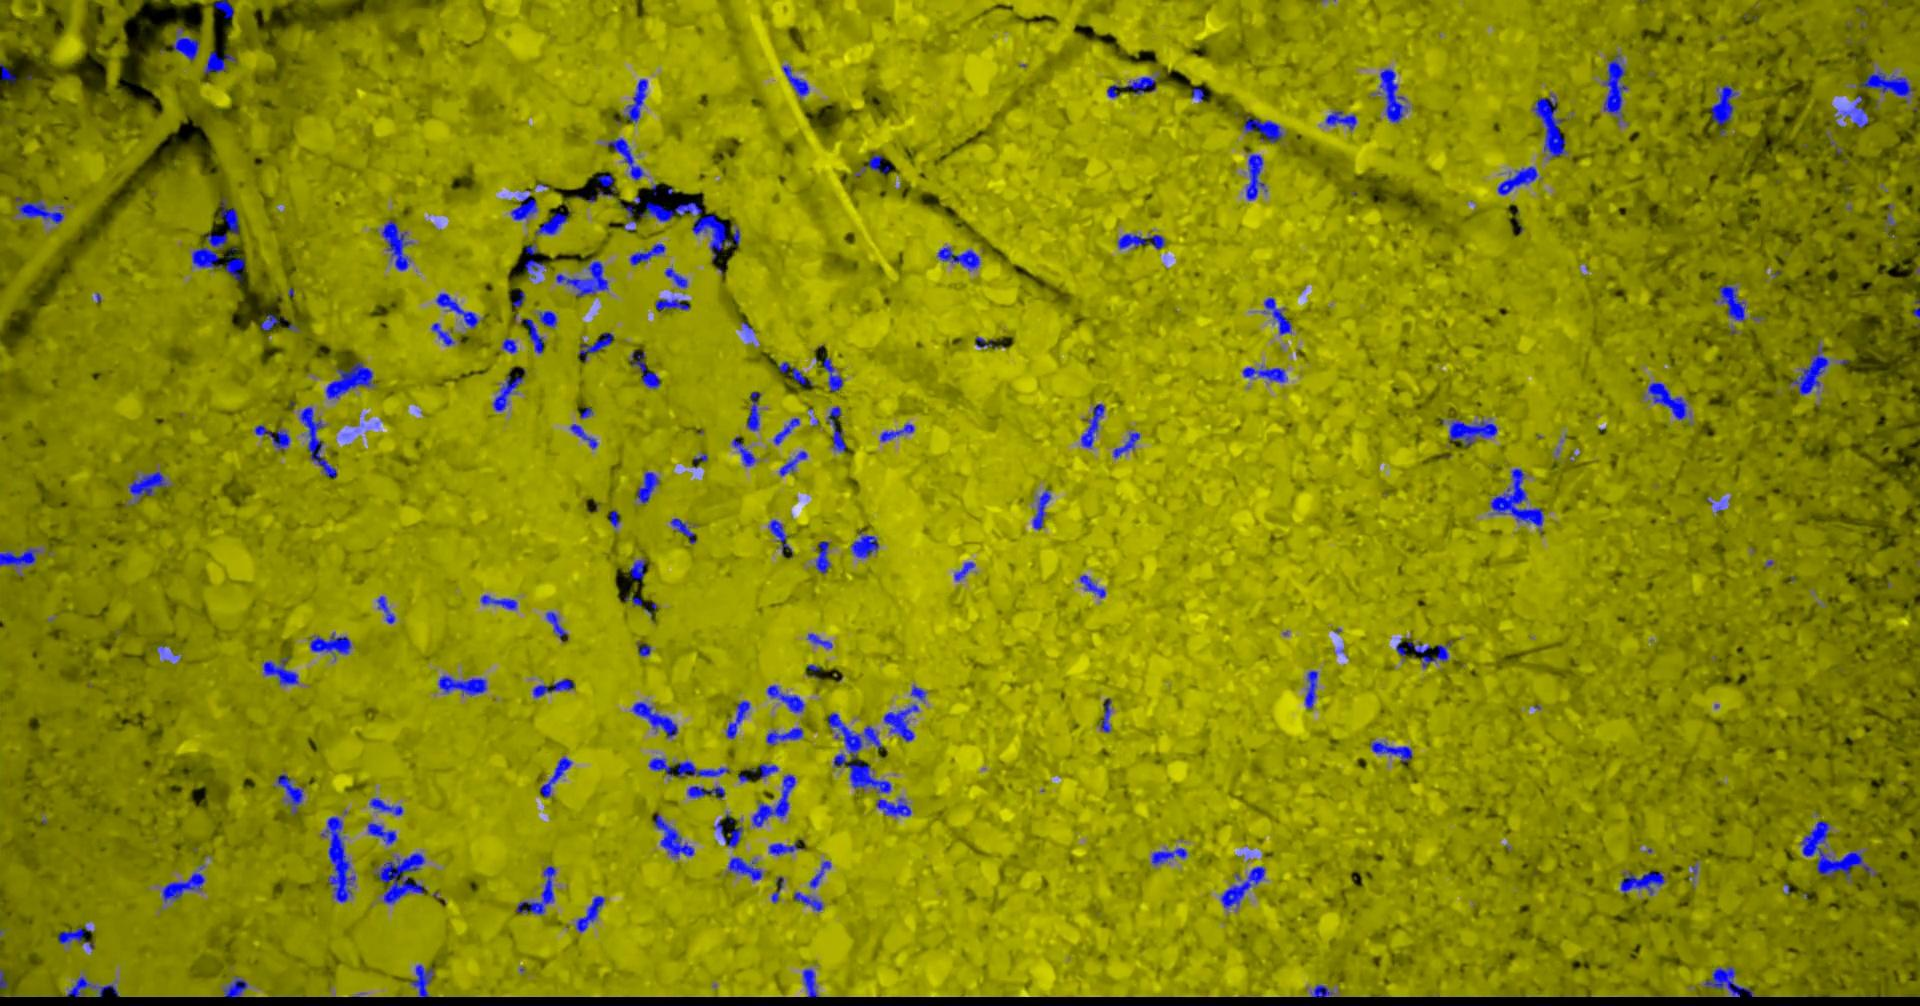ant: (298, 406, 337, 478), (827, 713, 881, 758), (750, 774, 795, 826), (1531, 91, 1566, 158), (833, 753, 890, 793), (1789, 342, 1829, 394), (516, 865, 555, 915), (1703, 967, 1766, 997), (555, 260, 608, 296), (651, 814, 693, 857), (1220, 866, 1263, 908), (325, 361, 373, 398), (1859, 70, 1912, 102), (1603, 53, 1627, 122), (631, 701, 677, 737), (436, 293, 483, 328), (607, 137, 644, 180), (1647, 382, 1690, 419), (161, 865, 204, 902), (381, 218, 411, 271), (1379, 69, 1407, 122), (55, 976, 119, 997), (1406, 636, 1451, 667), (15, 196, 63, 224), (1710, 85, 1737, 135), (1449, 419, 1496, 447), (883, 704, 918, 741), (540, 756, 571, 796), (276, 774, 303, 815), (1713, 285, 1745, 321), (491, 375, 523, 412), (127, 471, 166, 500), (309, 633, 350, 659), (766, 683, 804, 713), (1079, 403, 1103, 448), (1497, 166, 1537, 194), (1242, 116, 1283, 142), (1262, 297, 1291, 334), (630, 351, 659, 387), (262, 655, 298, 685), (575, 895, 604, 932), (623, 77, 648, 121), (438, 674, 486, 696), (578, 332, 615, 359), (1244, 152, 1266, 199), (1106, 76, 1156, 97), (1620, 871, 1663, 894), (767, 520, 792, 558), (725, 700, 750, 738), (171, 25, 199, 60), (937, 246, 979, 269), (1370, 741, 1412, 763), (676, 760, 729, 777), (825, 406, 846, 451), (254, 424, 290, 448), (782, 65, 809, 97), (1843, 95, 1868, 128), (712, 819, 742, 847), (521, 318, 543, 353), (1242, 365, 1288, 382), (532, 678, 574, 697), (778, 361, 811, 385), (409, 964, 433, 997), (629, 243, 665, 264), (728, 857, 762, 880), (1117, 232, 1164, 249), (203, 51, 236, 74), (535, 212, 568, 235), (0, 547, 39, 567), (772, 417, 799, 445), (1112, 431, 1139, 459), (850, 531, 877, 558), (778, 450, 808, 475), (731, 436, 756, 466), (764, 727, 803, 746), (1032, 488, 1050, 528), (569, 423, 597, 448), (523, 244, 543, 278), (822, 357, 842, 391), (545, 611, 568, 641), (637, 471, 659, 503), (875, 796, 910, 815), (1324, 109, 1356, 130), (879, 423, 914, 441), (1150, 847, 1186, 865), (367, 822, 396, 843), (370, 796, 403, 815), (58, 925, 91, 944), (510, 196, 536, 220), (670, 518, 696, 542), (809, 860, 830, 888), (792, 890, 822, 911), (1079, 574, 1105, 597), (768, 840, 805, 855), (430, 323, 455, 345), (745, 391, 759, 431), (861, 154, 889, 173), (223, 976, 248, 997), (745, 763, 778, 779), (1304, 669, 1317, 709), (480, 594, 516, 608), (376, 594, 394, 622), (815, 541, 830, 573), (686, 785, 724, 798), (664, 267, 687, 287), (1098, 697, 1111, 732), (260, 312, 284, 330), (648, 757, 672, 775), (596, 174, 615, 196), (952, 561, 974, 580), (803, 968, 817, 997), (655, 298, 690, 310), (770, 875, 783, 903), (806, 633, 830, 648), (629, 558, 645, 579), (213, 0, 232, 18), (537, 310, 556, 326), (0, 61, 15, 81), (1310, 984, 1333, 997), (910, 685, 924, 702), (502, 337, 517, 352), (512, 290, 524, 306), (974, 337, 994, 347), (623, 596, 643, 606), (608, 509, 618, 527), (1191, 86, 1203, 102), (637, 645, 650, 655)
